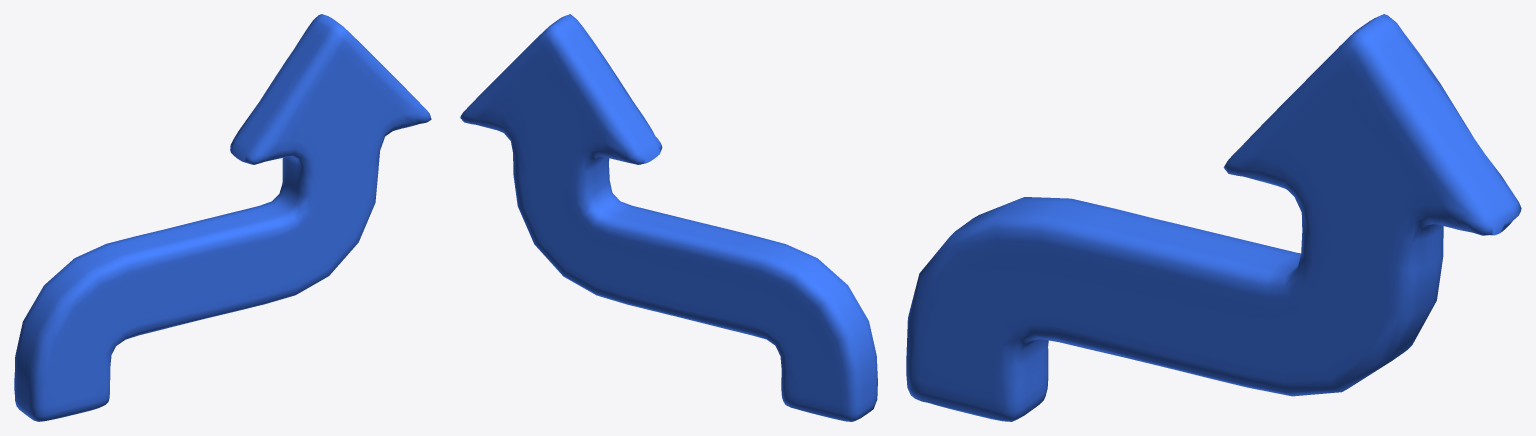
The model's file is arrow 02.fbx.
3 views of the same model, side by side, from view 1: azimuth 30°, elevation 25°; view 2: azimuth 150°, elevation 25°; view 3: azimuth 330°, elevation 25° (orthographic). The views are drawn at different scales.
Parts seen in each view (by area): view 1: arrow_2; view 2: arrow_2; view 3: arrow_2.
Part boxes in pixels (box(x1,y1,x2,y2)): arrow_2: box(14, 14, 431, 421); arrow_2: box(460, 14, 877, 421); arrow_2: box(906, 14, 1521, 421).
Size of the model in its own units: 384 by 297 by 43.04.
